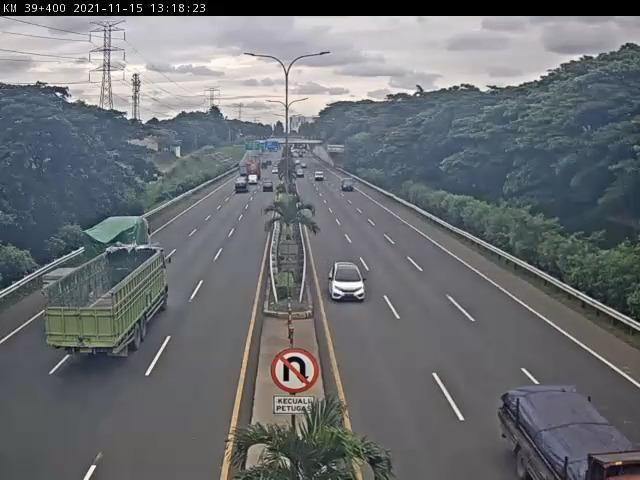car: (329, 262, 370, 305)
truck: (43, 248, 171, 360), (40, 215, 156, 300)
